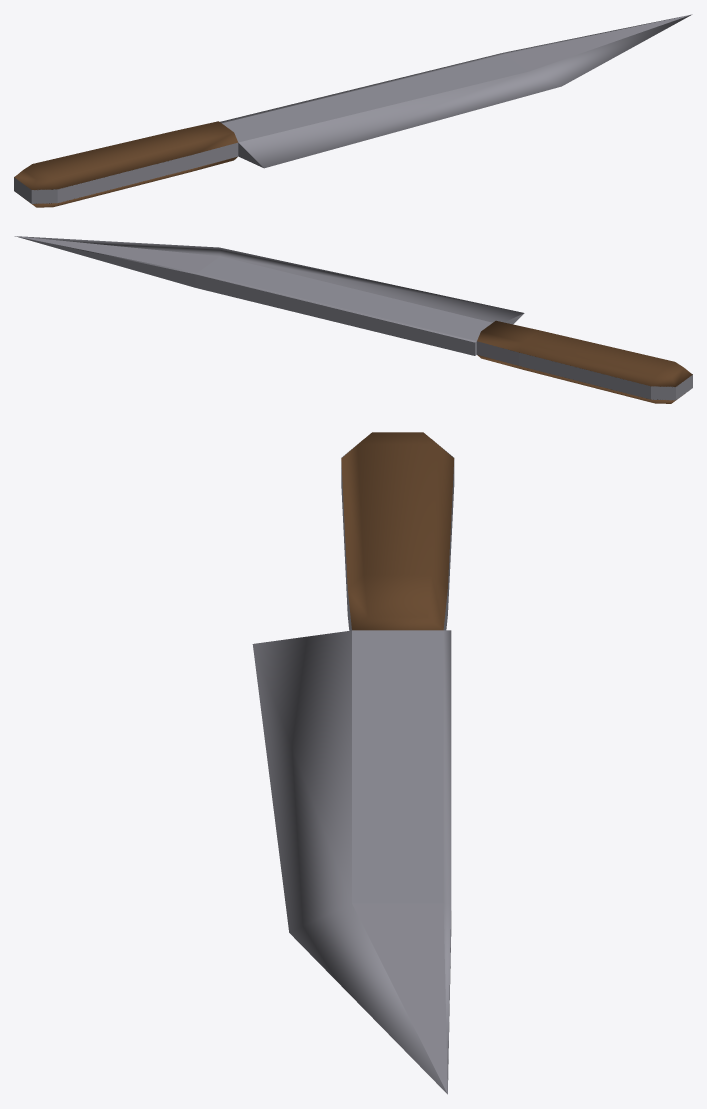
File: KNIFE.glb
3 views of the same model, one above another, from view 1: azimuth 30°, elevation 25°; view 2: azimuth 150°, elevation 25°; view 3: azimuth 270°, elevation 25° (orthographic). The views are drawn at different scales.
Parts seen in each view (by area): view 1: Plane; view 2: Plane; view 3: Plane.
Boxes of the visible parts, bbox=[...] form: Plane: bbox=[14, 14, 692, 207]; Plane: bbox=[14, 236, 692, 403]; Plane: bbox=[252, 432, 454, 1094].
Bounding box in the file's own units: 1.06 × 0.0416 × 0.1409.
